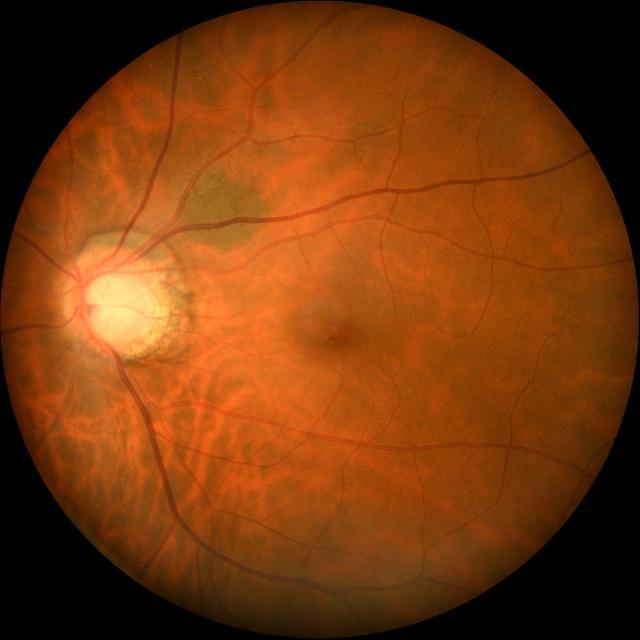OC: (84, 268, 148, 342)
OD: (62, 246, 156, 350)
